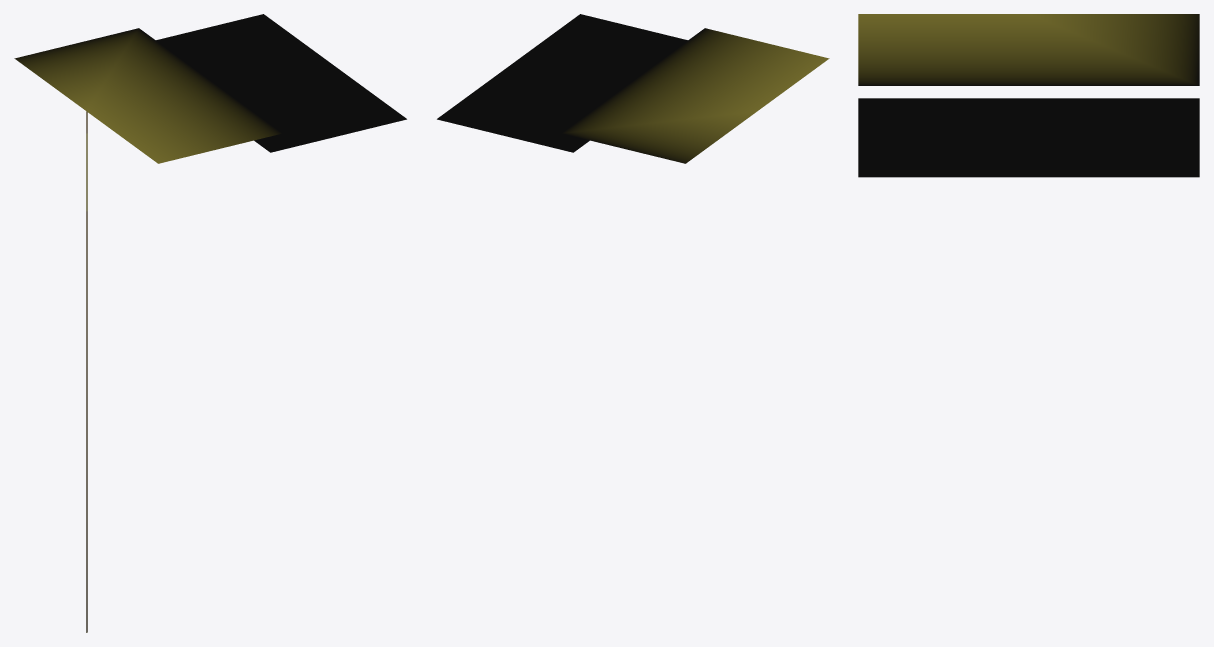
3 views of the same model, side by side, from view 1: azimuth 30°, elevation 25°; view 2: azimuth 150°, elevation 25°; view 3: azimuth 270°, elevation 25° (orthographic). The views are drawn at different scales.
Size of the model in its own units: 1 by 2 by 1.
Materials: 1 (1 with a texture image).
